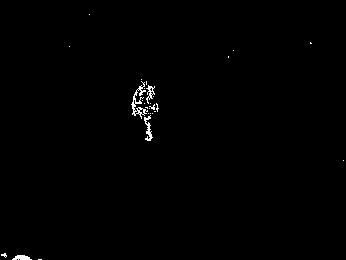person: (131, 78, 156, 141)
